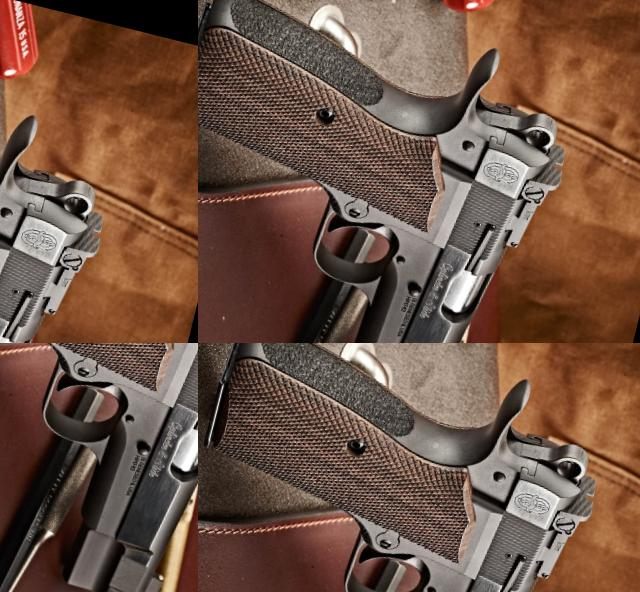handgun: (198, 343, 626, 592), (543, 0, 640, 162), (0, 248, 119, 343), (143, 364, 198, 492)
